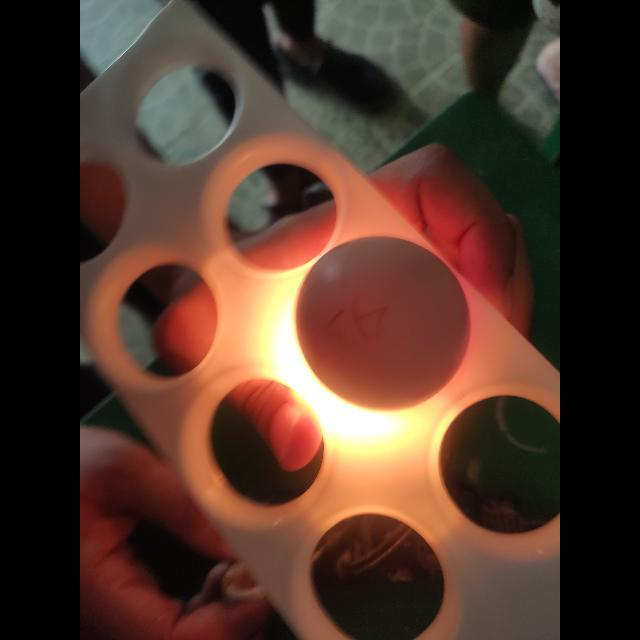Fertile: (301, 236, 475, 394)
